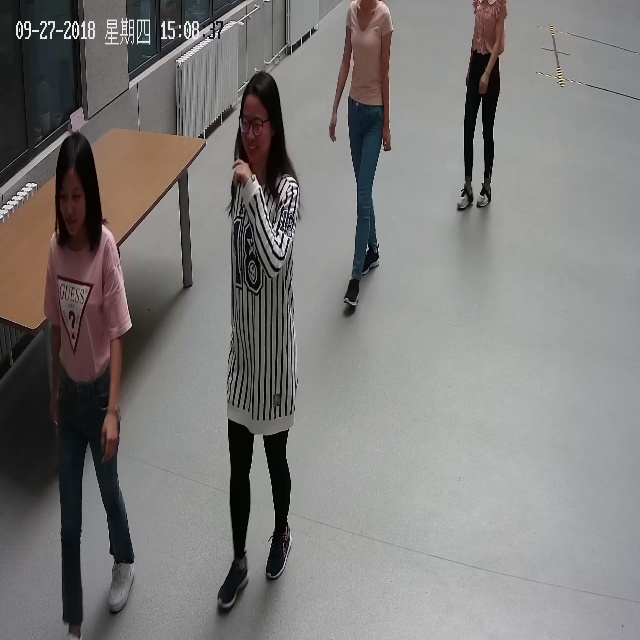head: (49, 125, 109, 238), (232, 68, 291, 170)
